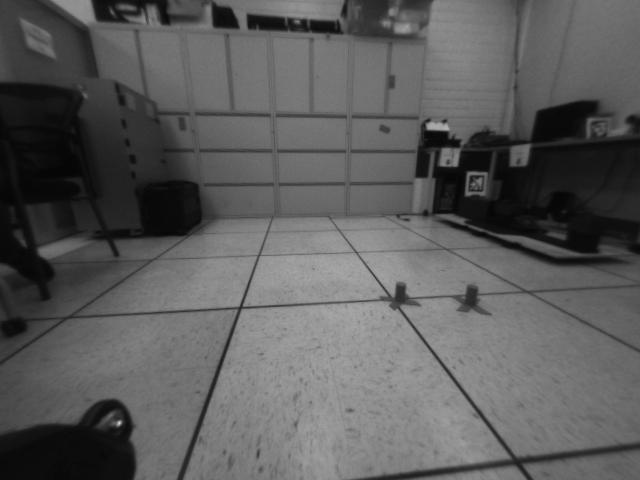X: (450, 283, 490, 316), (378, 281, 421, 311)
